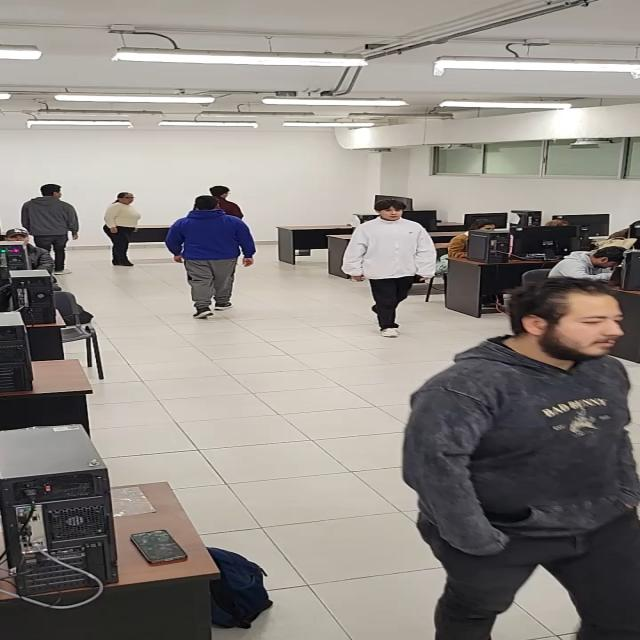Persona: (400, 280, 640, 637), (171, 194, 260, 316), (363, 200, 422, 336), (19, 171, 91, 275), (100, 189, 147, 271)
